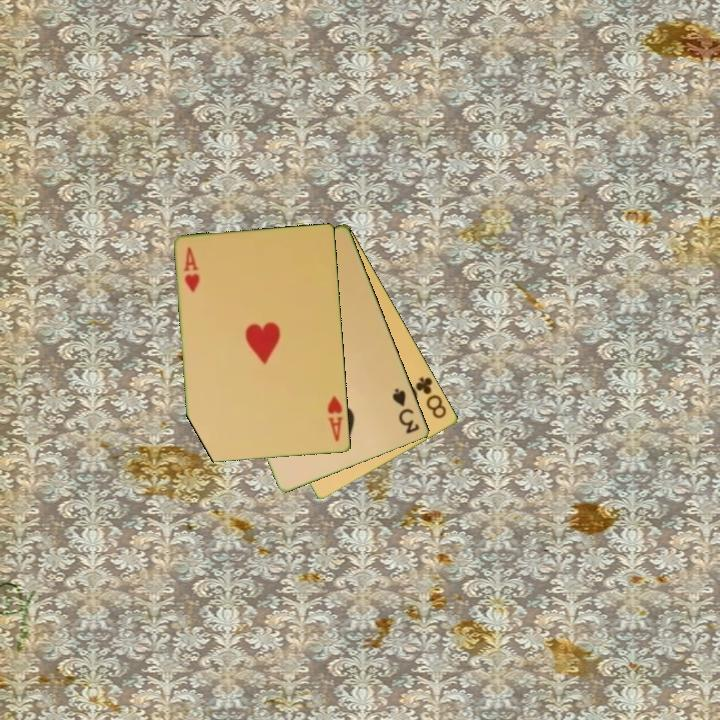3s: (389, 385, 423, 437)
8c: (410, 373, 450, 422)
Ah: (324, 392, 346, 444), (180, 243, 202, 295)
